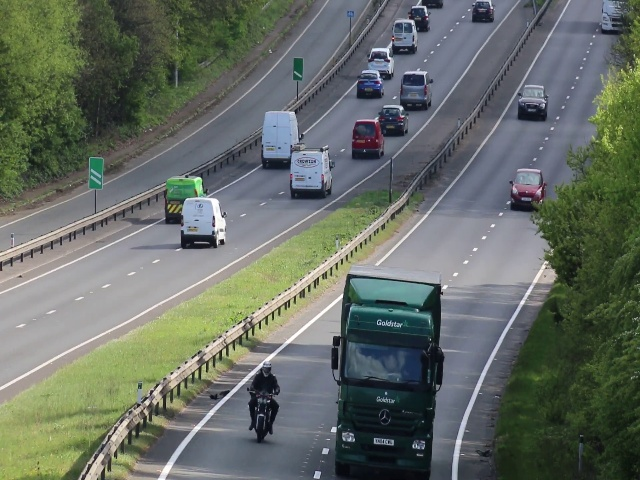car: (344, 312, 437, 480), (177, 195, 229, 252), (294, 149, 337, 209), (257, 112, 303, 167), (510, 162, 544, 211), (350, 117, 383, 160), (163, 176, 190, 224), (517, 83, 549, 120), (401, 69, 432, 106), (380, 103, 408, 137), (368, 44, 394, 78), (393, 19, 415, 54), (357, 71, 383, 98), (470, 1, 495, 23), (409, 7, 428, 27)
